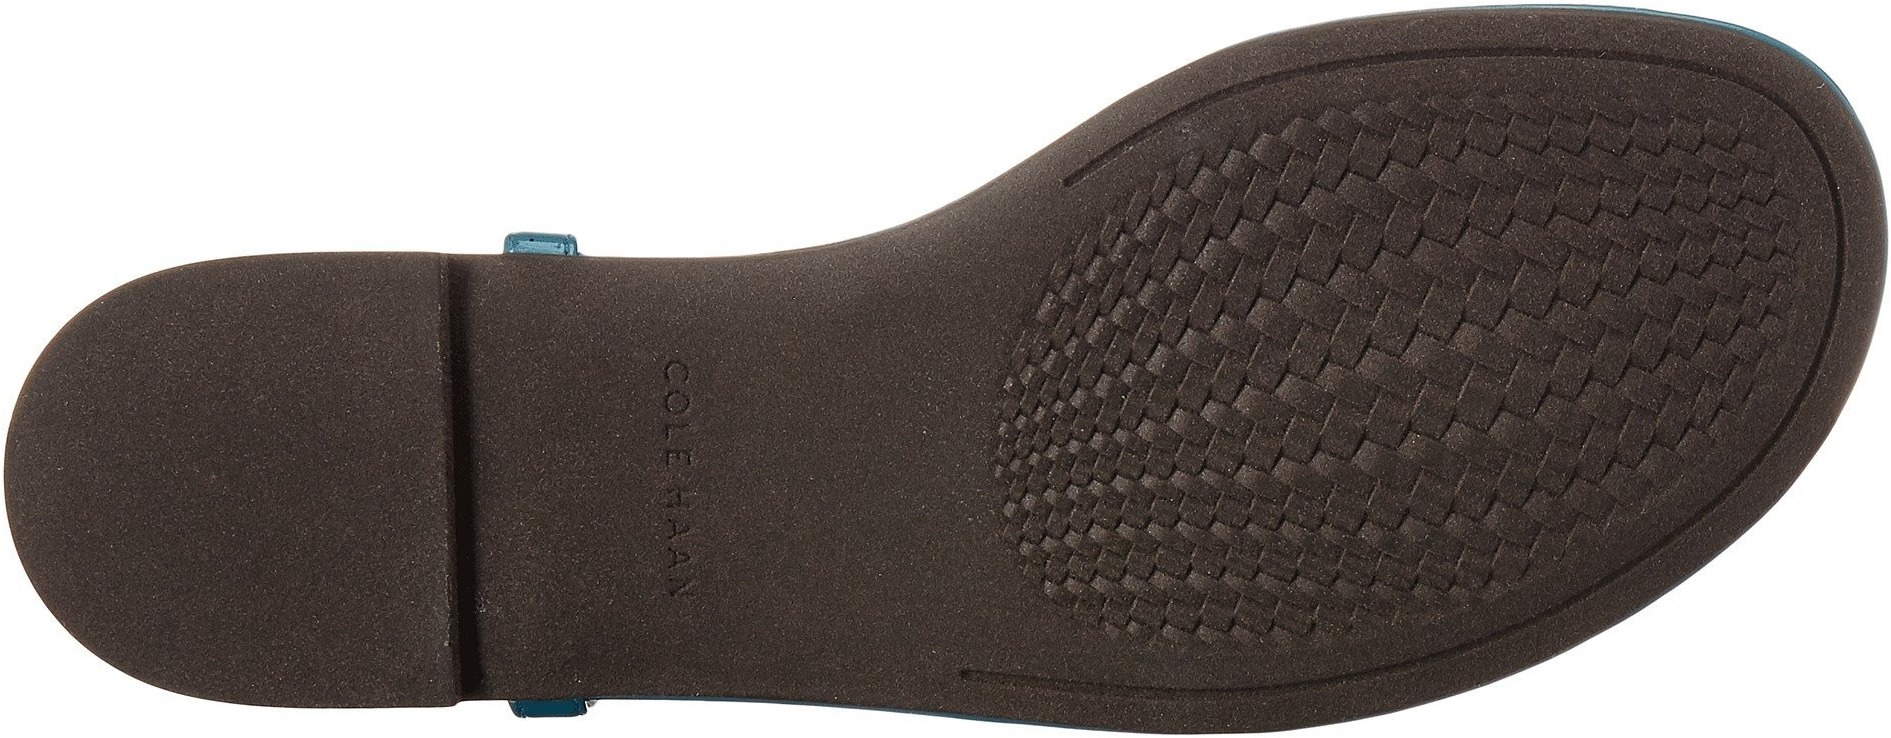chevron: (1069, 219, 1515, 613), (1511, 107, 1784, 363)
exclude: (391, 1, 619, 258)
other: (90, 299, 447, 646), (774, 376, 978, 569)
quad: (1069, 219, 1515, 613), (1425, 111, 1733, 408), (1511, 107, 1784, 363)
text: (611, 478, 743, 605), (615, 358, 737, 475)
